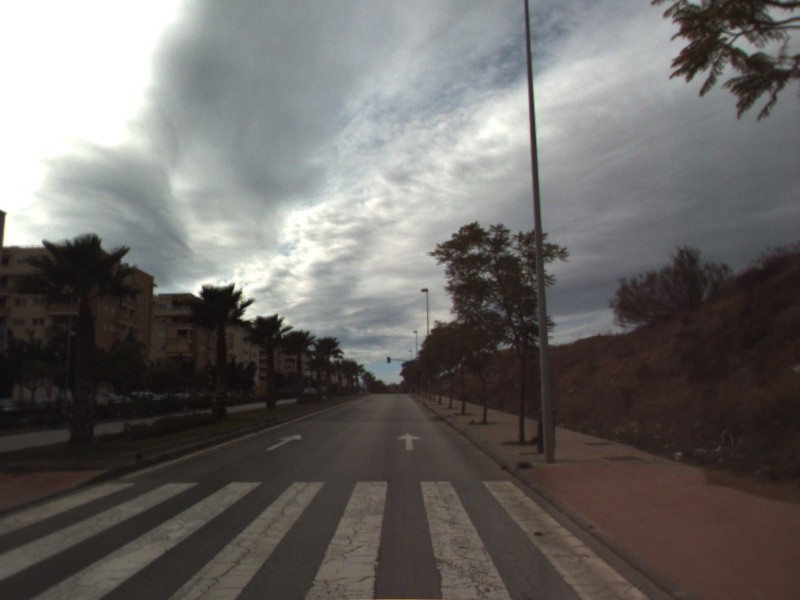STRAIGHT: (263, 432, 305, 452), (395, 431, 424, 452)
